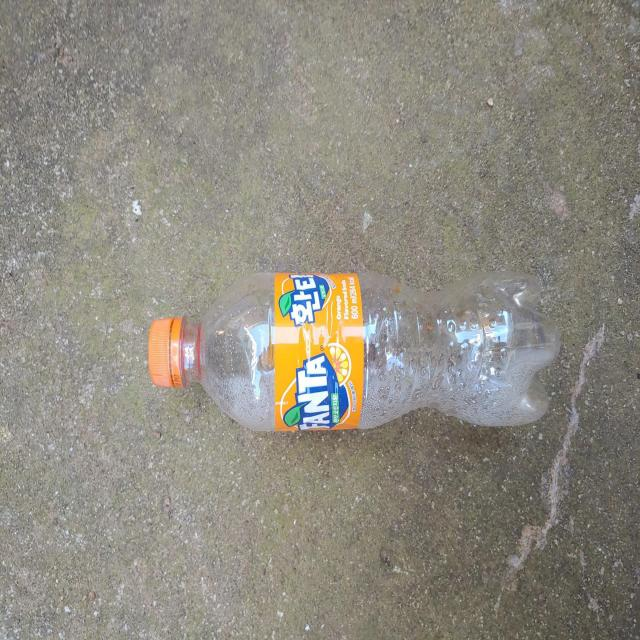plastic: (148, 271, 561, 431)
